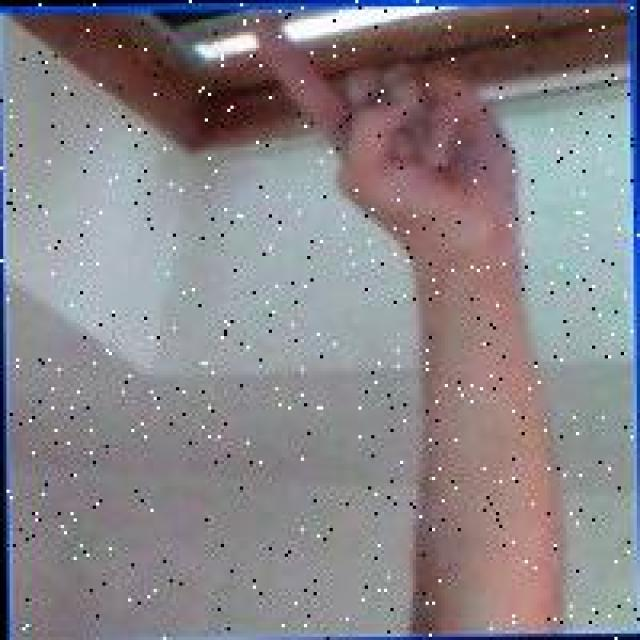Z: (251, 10, 533, 243)
